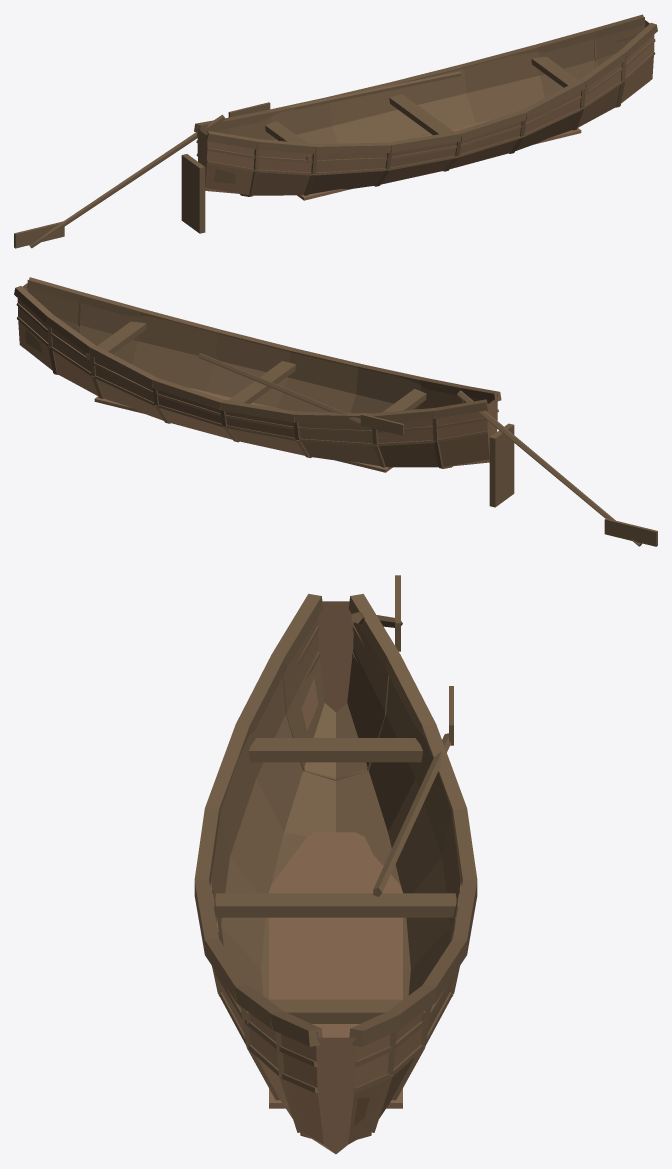
3 renders of one model, top to bottom at view 1: azimuth 30°, elevation 25°; view 2: azimuth 150°, elevation 25°; view 3: azimuth 270°, elevation 25°, orthographic. The views are drawn at different scales.
Parts seen in each view (by area): view 1: K13b; view 2: K13b; view 3: K13b.
Part boxes in pixels (left/top/right/bottom): K13b: left=14, top=14, right=657, bottom=248; K13b: left=14, top=277, right=657, bottom=546; K13b: left=194, top=575, right=477, bottom=1154.
Size of the model in its own units: 13.89 by 2.12 by 2.74.
